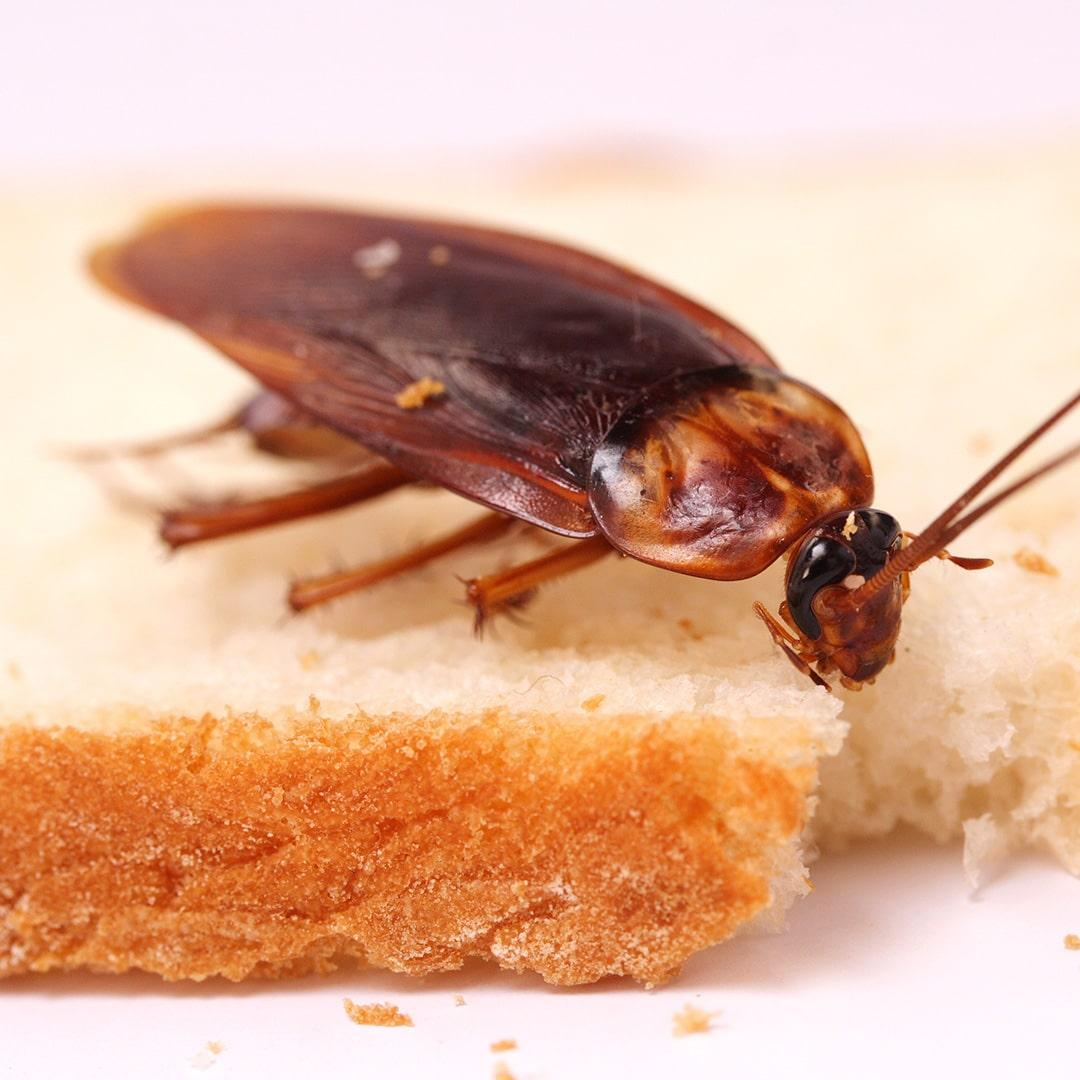cockroach: (71, 182, 914, 695)
